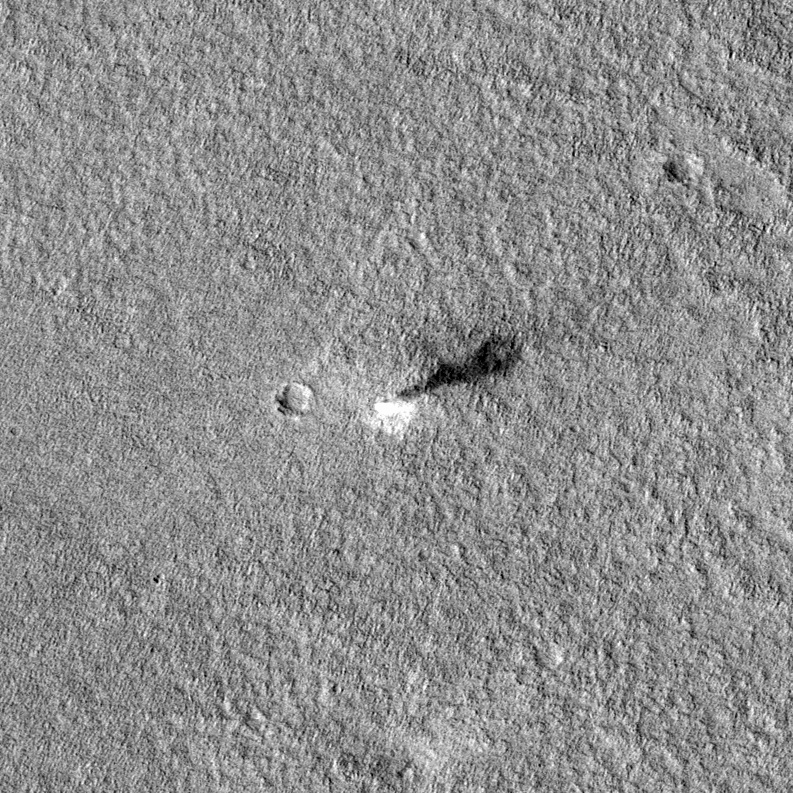dust_devil: (364, 334, 517, 437)
